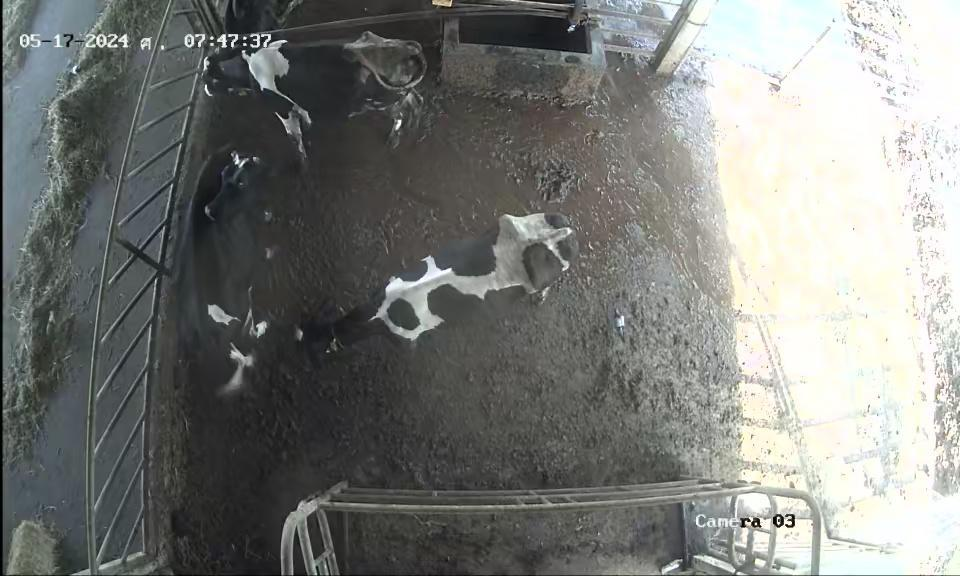stand: (292, 191, 601, 407), (160, 140, 281, 411), (203, 30, 426, 167)
